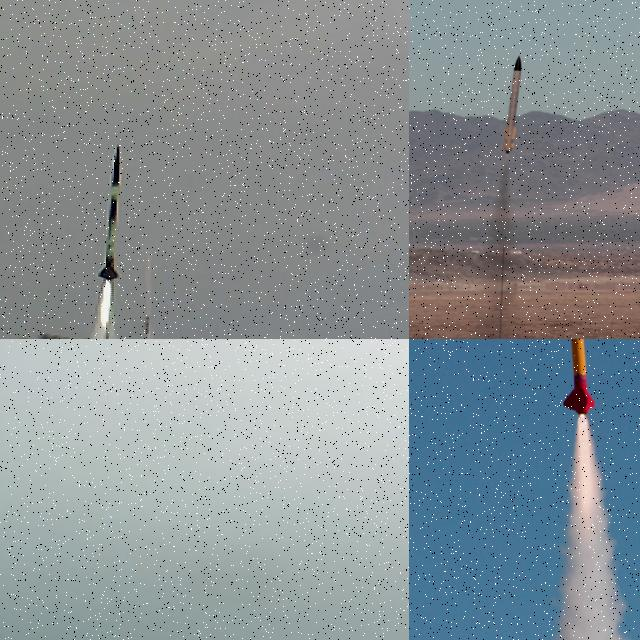Rocket: (95, 144, 121, 281), (561, 339, 597, 416), (501, 55, 522, 154)
